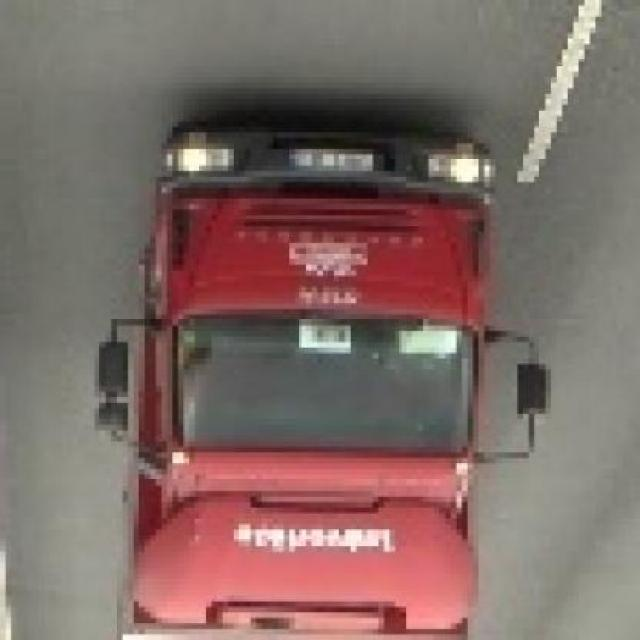truck: (101, 123, 552, 640)
